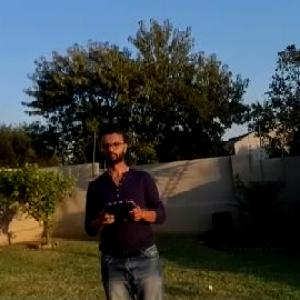follow: (76, 118, 170, 299)
